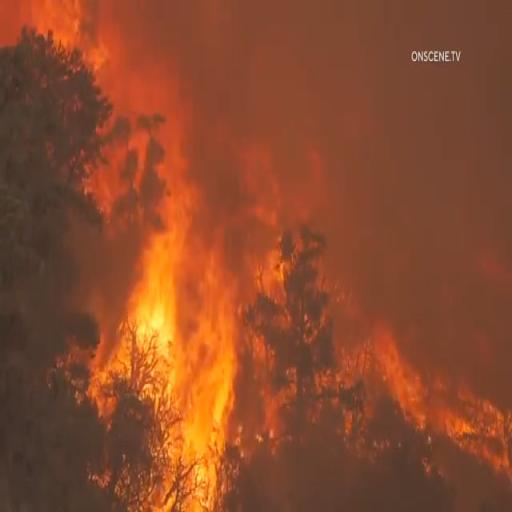fire: (63, 217, 228, 512)
